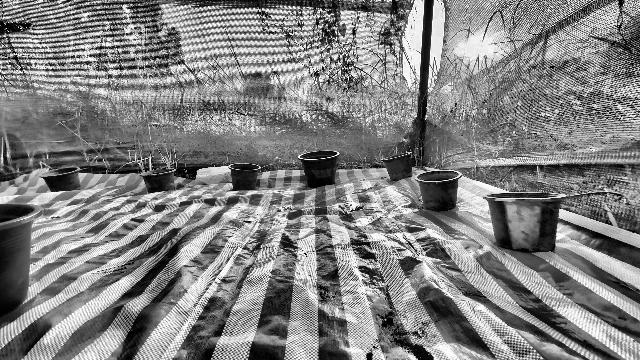pot: (482, 192, 566, 252), (0, 202, 43, 316), (414, 169, 463, 209), (297, 149, 340, 188), (38, 167, 81, 191), (381, 152, 413, 183), (140, 166, 176, 192), (227, 163, 260, 190)
